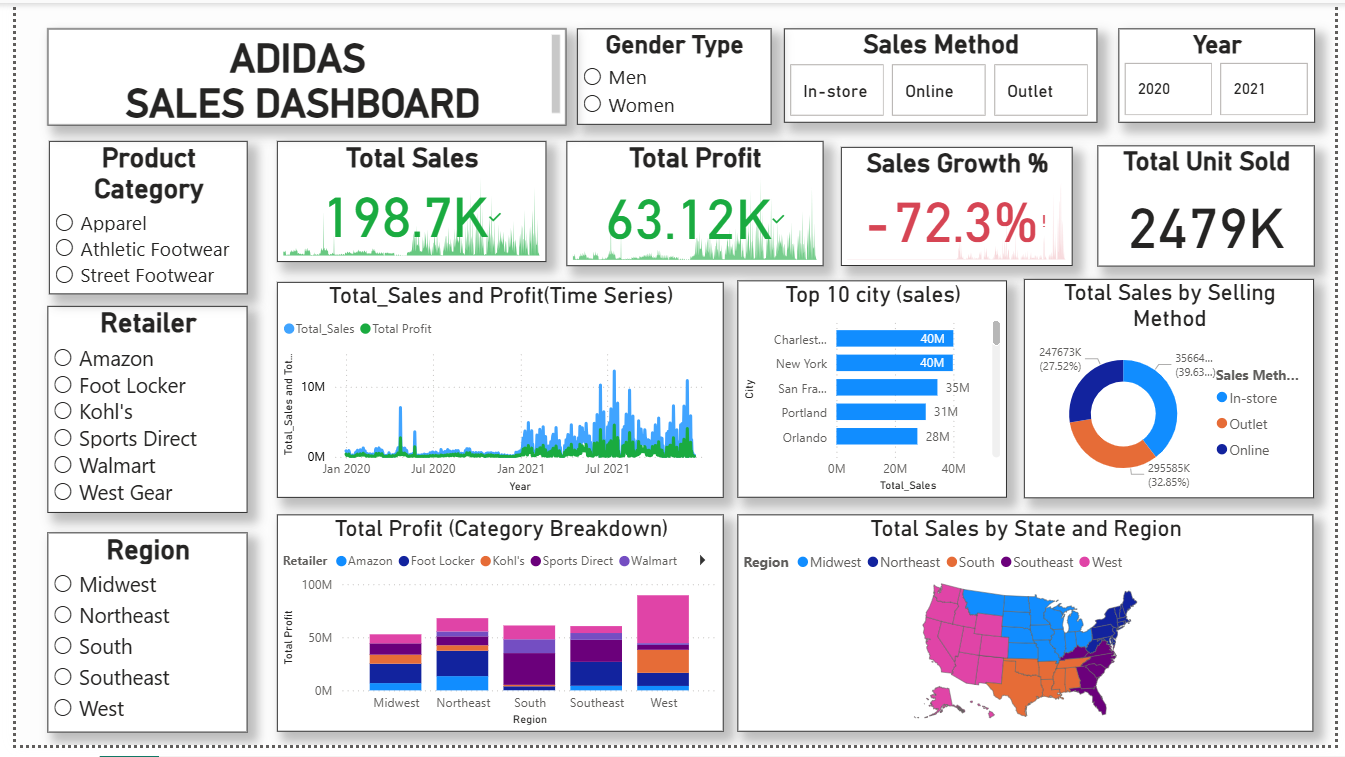

The dashboard page shown, as its layout file describes it:
{"tool":"powerbi","page":{"name":"Page 1","canvas":[1280,720],"ordinal":0},"visuals":[{"type":"kpi","title":"Total Sales","fields":{"Indicator":["Sum(Sales_details.Total Sales)"],"TrendLine":["Sales_details.Invoice Date"],"Goal":["Sum(Sales_details.Units Sold)"]},"box":[253.2,133.7,261.3,117.5],"z":0},{"type":"kpi","title":"Total Profit","fields":{"Indicator":["Sales_details.Total Profit"],"TrendLine":["Sales_details.Invoice Date"],"Goal":["Sum(Sales_details.Units Sold)"]},"box":[534.7,133.7,249.1,121.5],"z":1000},{"type":"kpi","title":"Sales Growth %","fields":{"Indicator":["Sales_details.Sales Growth %"],"TrendLine":["Sales_details.Invoice Date"],"Goal":["Sum(Sales_details.Units Sold)"]},"box":[800,139.7,224.8,115.4],"z":2000},{"type":"advancedSlicerVisual","fields":{"Values":["Sales_details.Sales Method"]},"box":[745.3,24.3,303.8,91.1],"z":3000},{"type":"advancedSlicerVisual","fields":{"Values":["Sales_details.Invoice Date.Variation.Date Hierarchy.Year"]},"box":[1069.4,24.3,190.4,91.1],"z":4000},{"type":"listSlicer","fields":{"Values":["Sales_details.Retailer"]},"box":[30.8,294.7,194.3,200.8],"z":5000},{"type":"listSlicer","fields":{"Values":["Sales_details.Region"]},"box":[30.8,513.3,194.3,194.3],"z":6000},{"type":"listSlicer","fields":{"Values":["Sales_details.Gender Type"]},"box":[544.8,24.3,188.4,93.2],"z":7000},{"type":"card","title":"Total Unit Sold","fields":{"Values":["Sum(Sales_details.Units Sold)"]},"box":[1049.1,137.7,210.6,117.5],"z":8000},{"type":"listSlicer","fields":{"Values":["Sales_details.Product Category"]},"box":[32.4,134.4,192.7,149],"z":9000},{"type":"lineChart","title":"Total_Sales and Profit(Time Series)","fields":{"Y":["Sales_details.Total_Sales","Sales_details.Total Profit"],"Category":["Sales_details.Invoice Date.Variation.Date Hierarchy.Year","Sales_details.Invoice Date.Variation.Date Hierarchy.Quarter","Sales_details.Invoice Date.Variation.Date Hierarchy.Month","Sales_details.Invoice Date.Variation.Date Hierarchy.Day"]},"box":[253.8,270.3,433.1,209.7],"z":10000},{"type":"lineStackedColumnComboChart","title":"Total Profit (Category Breakdown)","fields":{"Category":["Sales_details.Region","Sales_details.Total Sales"],"Y":["Sales_details.Total Profit"],"Series":["Sales_details.Retailer"]},"box":[253.2,496.2,433.4,210.6],"z":11000},{"type":"clusteredBarChart","title":"Top 10 city (sales) ","fields":{"Category":["Sales_details.City"],"Y":["Sales_details.Total_Sales"]},"box":[700.8,269.4,261.3,210.6],"z":12000},{"type":"donutChart","title":"Total Sales by Selling Method","fields":{"Category":["Sales_details.Sales Method"],"Y":["Sum(Sales_details.Total Sales)"]},"box":[978.2,267.3,281.5,212.7],"z":13000},{"type":"shapeMap","title":"Total Sales by State and Region","fields":{"Category":["Sales_details.State"],"Value":["Sum(Sales_details.Total Sales)"],"Series":["Sales_details.Region"]},"box":[700.8,496.2,559,210.6],"z":14000},{"type":"textbox","box":[30.8,24.3,503.6,93.9],"z":16000}]}

Visuals, with their boxes in screenshot pixels (x1, y1, x2, y2), scaled from the page's 1280x720 canvas onto the 1345x757 screenshot:
"Total Sales" kpi: bbox=[266, 141, 541, 264]
"Total Profit" kpi: bbox=[562, 141, 824, 268]
"Sales Growth %" kpi: bbox=[841, 147, 1077, 268]
advancedSlicerVisual - Sales_details.Sales Method: bbox=[783, 26, 1102, 121]
advancedSlicerVisual - Sales_details.Invoice Date.Variation.Date Hierarchy.Year: bbox=[1124, 26, 1324, 121]
listSlicer - Sales_details.Retailer: bbox=[32, 310, 237, 521]
listSlicer - Sales_details.Region: bbox=[32, 540, 237, 744]
listSlicer - Sales_details.Gender Type: bbox=[572, 26, 770, 124]
"Total Unit Sold" card: bbox=[1102, 145, 1324, 268]
listSlicer - Sales_details.Product Category: bbox=[34, 141, 237, 298]
"Total_Sales and Profit(Time Series)" lineChart: bbox=[267, 284, 722, 505]
"Total Profit (Category Breakdown)" lineStackedColumnComboChart: bbox=[266, 522, 721, 743]
"Top 10 city (sales) " clusteredBarChart: bbox=[736, 283, 1011, 505]
"Total Sales by Selling Method" donutChart: bbox=[1028, 281, 1324, 505]
"Total Sales by State and Region" shapeMap: bbox=[736, 522, 1324, 743]
textbox: bbox=[32, 26, 562, 124]
